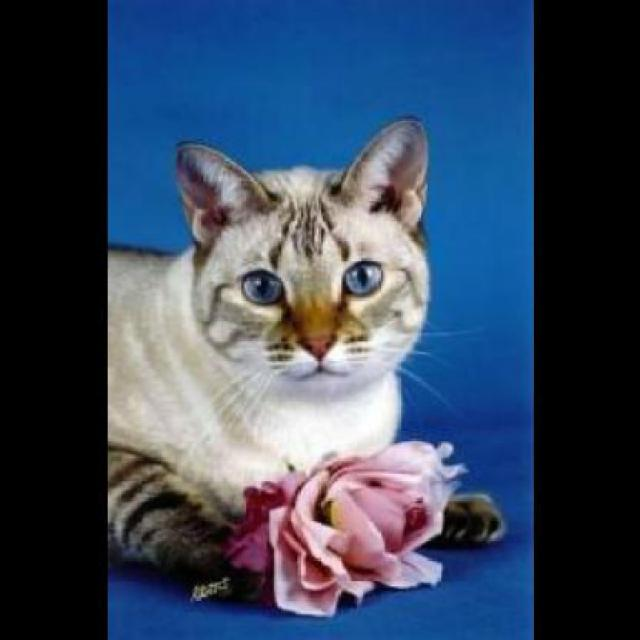unauthorized: (106, 116, 505, 604)
